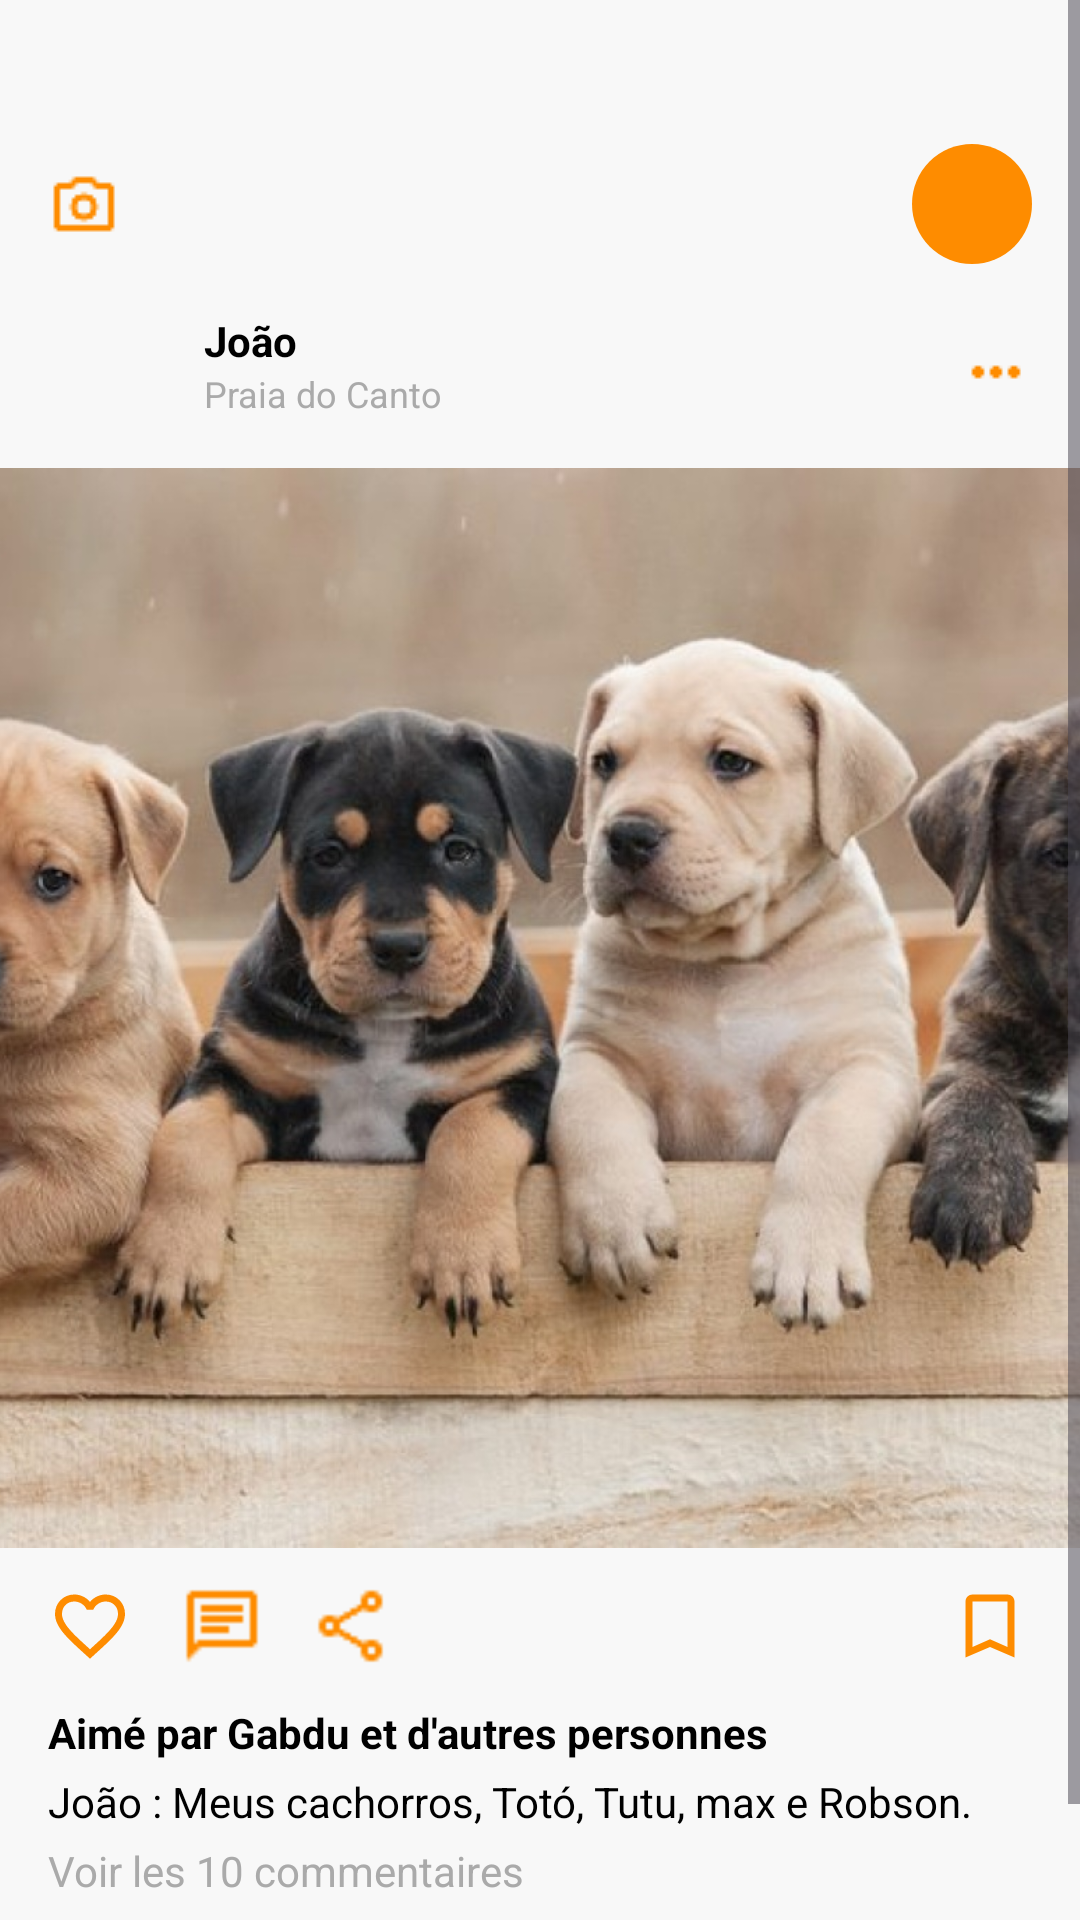

Icon click points for this 1080w x 1920h phone screenshot, format (x=x, y=y):
bookmark: (x=990, y=1626)
camera: (x=84, y=204)
comment bubble: (x=222, y=1626)
like: (x=90, y=1626)
more horiz: (x=996, y=372)
